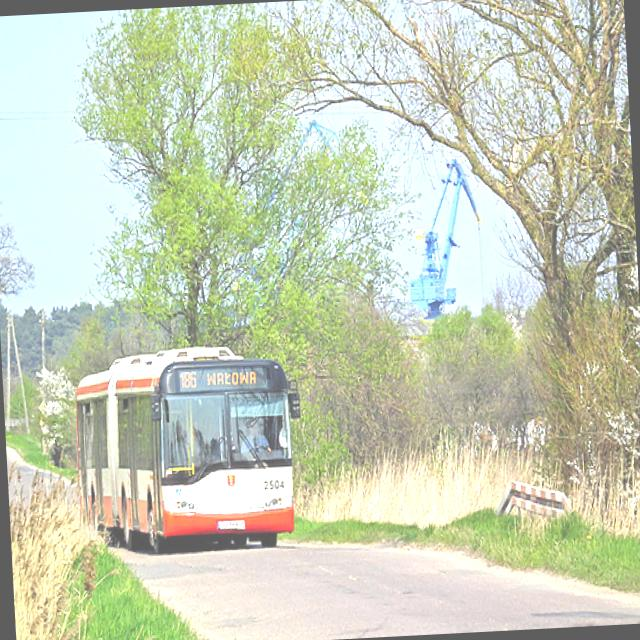Vehicle: (72, 341, 308, 558)
